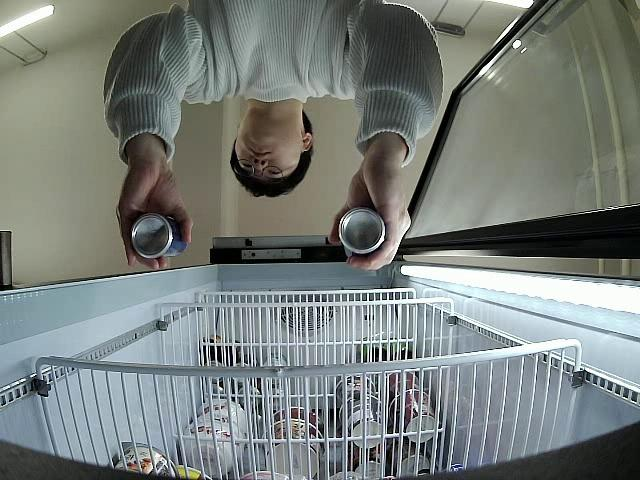00_hand: (329, 161, 411, 270), (117, 163, 193, 271)
16_hot6: (131, 213, 187, 258), (339, 210, 385, 261)
